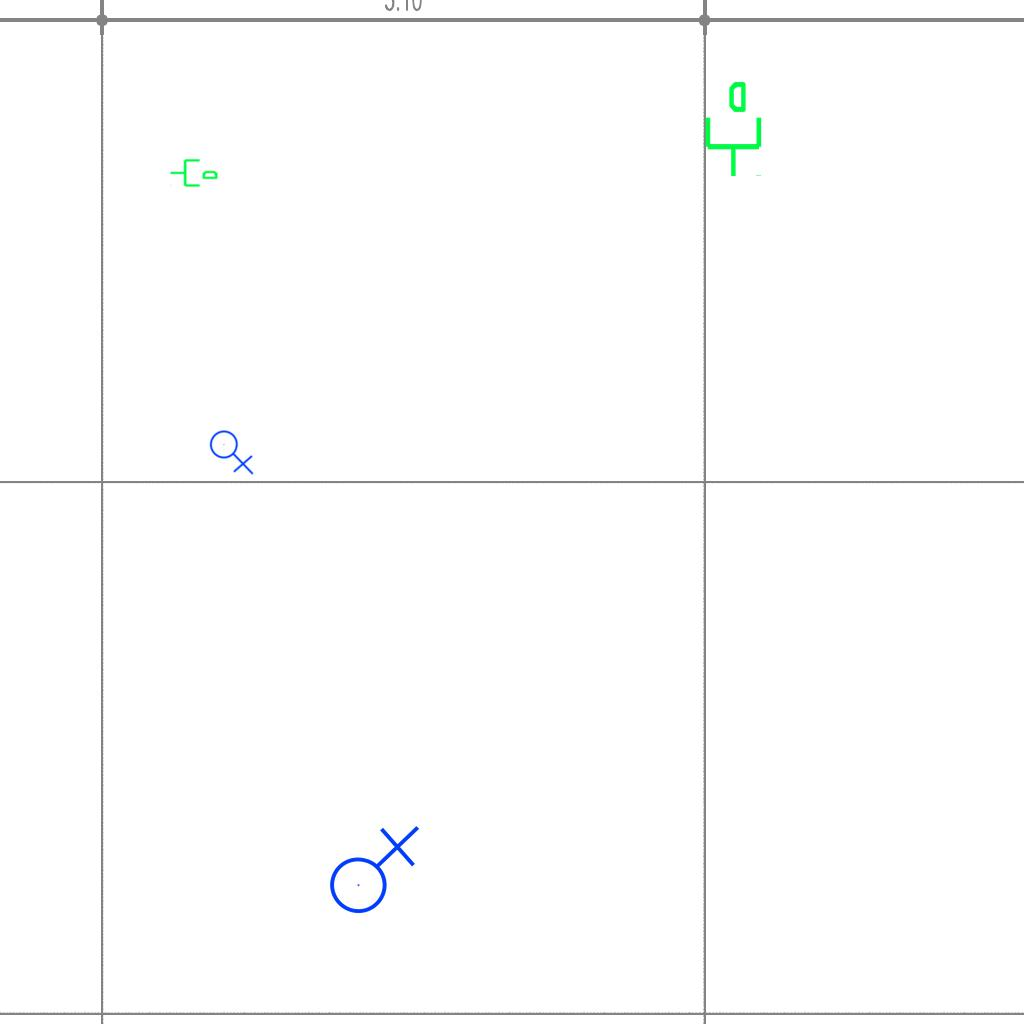Datenanschluss_einfach: (697, 79, 766, 179), (169, 155, 219, 189)
Elektroanschluss_allgemein_230V_Geraeteanschlussdose_230V: (321, 821, 420, 915), (209, 426, 256, 475)
